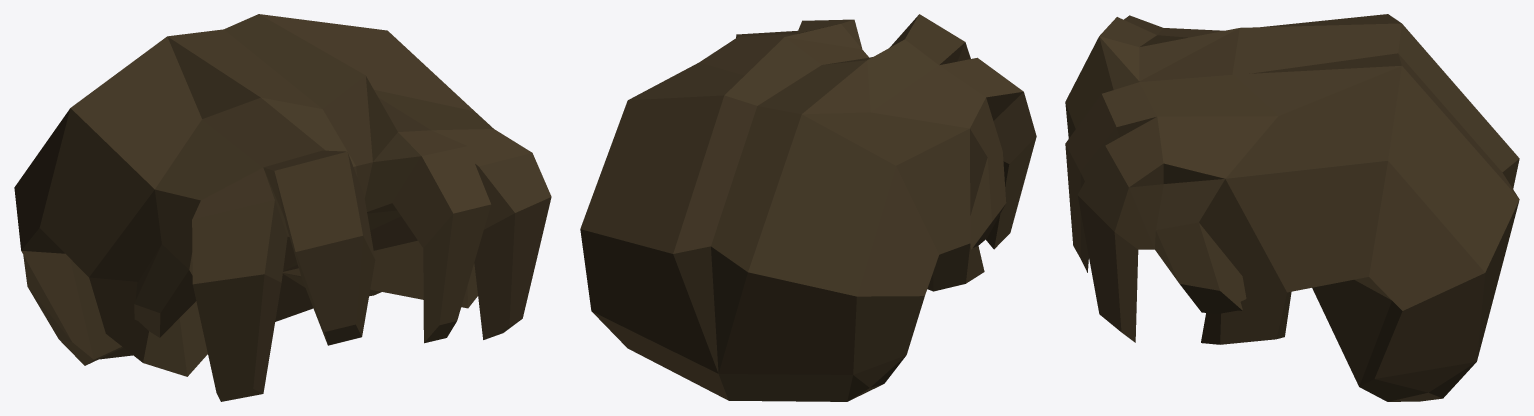
File: Chr_Hair_09_Static.fbx
3 views of the same model, side by side, from view 1: azimuth 30°, elevation 25°; view 2: azimuth 150°, elevation 25°; view 3: azimuth 270°, elevation 25° (orthographic). The views are drawn at different scales.
Parts seen in each view (by area): view 1: Chr_Hair_09_Static; view 2: Chr_Hair_09_Static; view 3: Chr_Hair_09_Static.
Part boxes in pixels (x1=…): Chr_Hair_09_Static: x1=14, y1=14, x2=551, y2=401; Chr_Hair_09_Static: x1=580, y1=14, x2=1036, y2=401; Chr_Hair_09_Static: x1=1065, y1=14, x2=1519, y2=401.
Bounding box in the file's own units: 0.2894 × 0.2322 × 0.2999.
